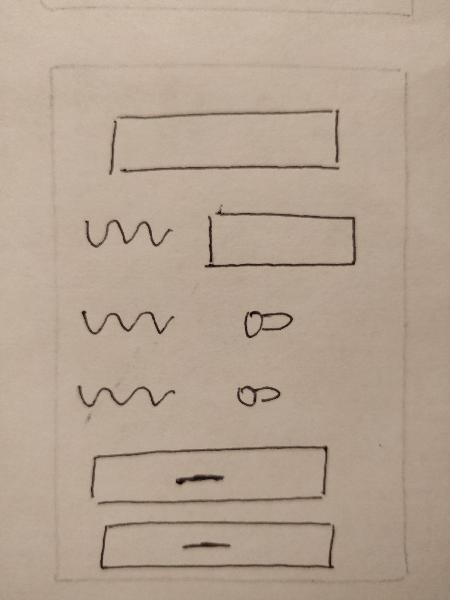button: (78, 439, 344, 509), (90, 517, 353, 576)
switch: (226, 300, 303, 342), (222, 369, 288, 414)
text: (64, 369, 180, 417), (67, 205, 173, 257), (70, 295, 180, 344)
text_input: (103, 100, 347, 174), (188, 195, 366, 278)
